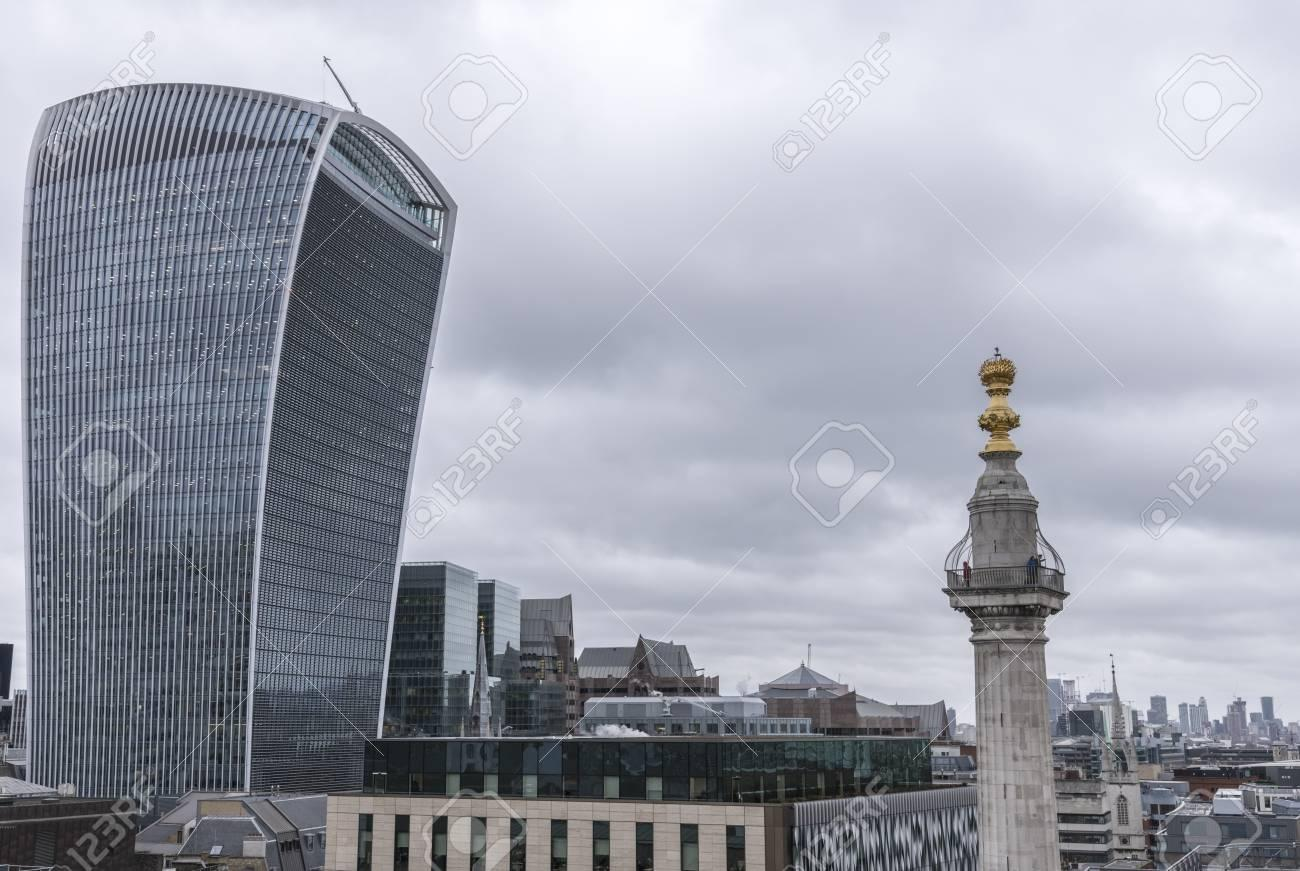Walkie talkie: (12, 80, 467, 798)
